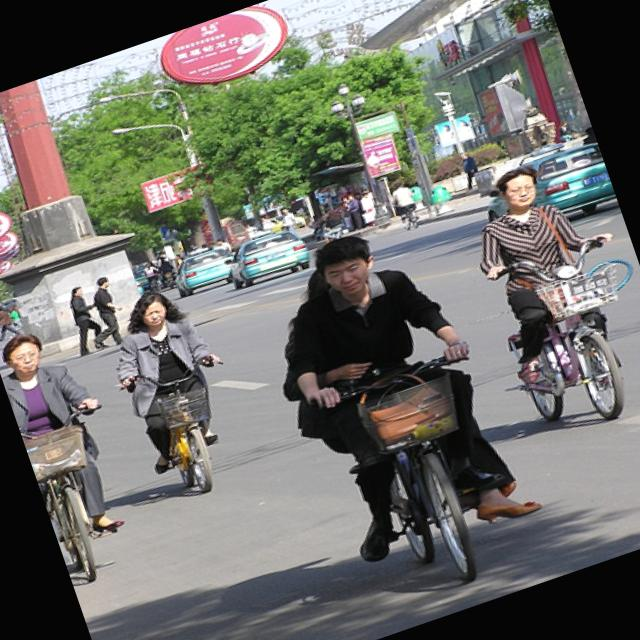Vehicle: (472, 137, 620, 251), (220, 222, 314, 294), (168, 242, 242, 298), (267, 208, 305, 235), (134, 274, 151, 294), (1, 297, 20, 310)
